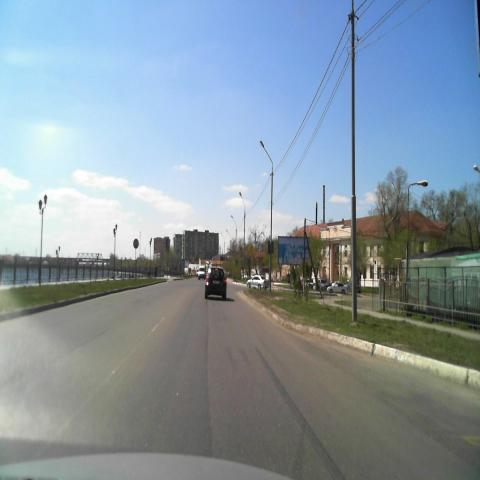2_1: (248, 243, 255, 256)
